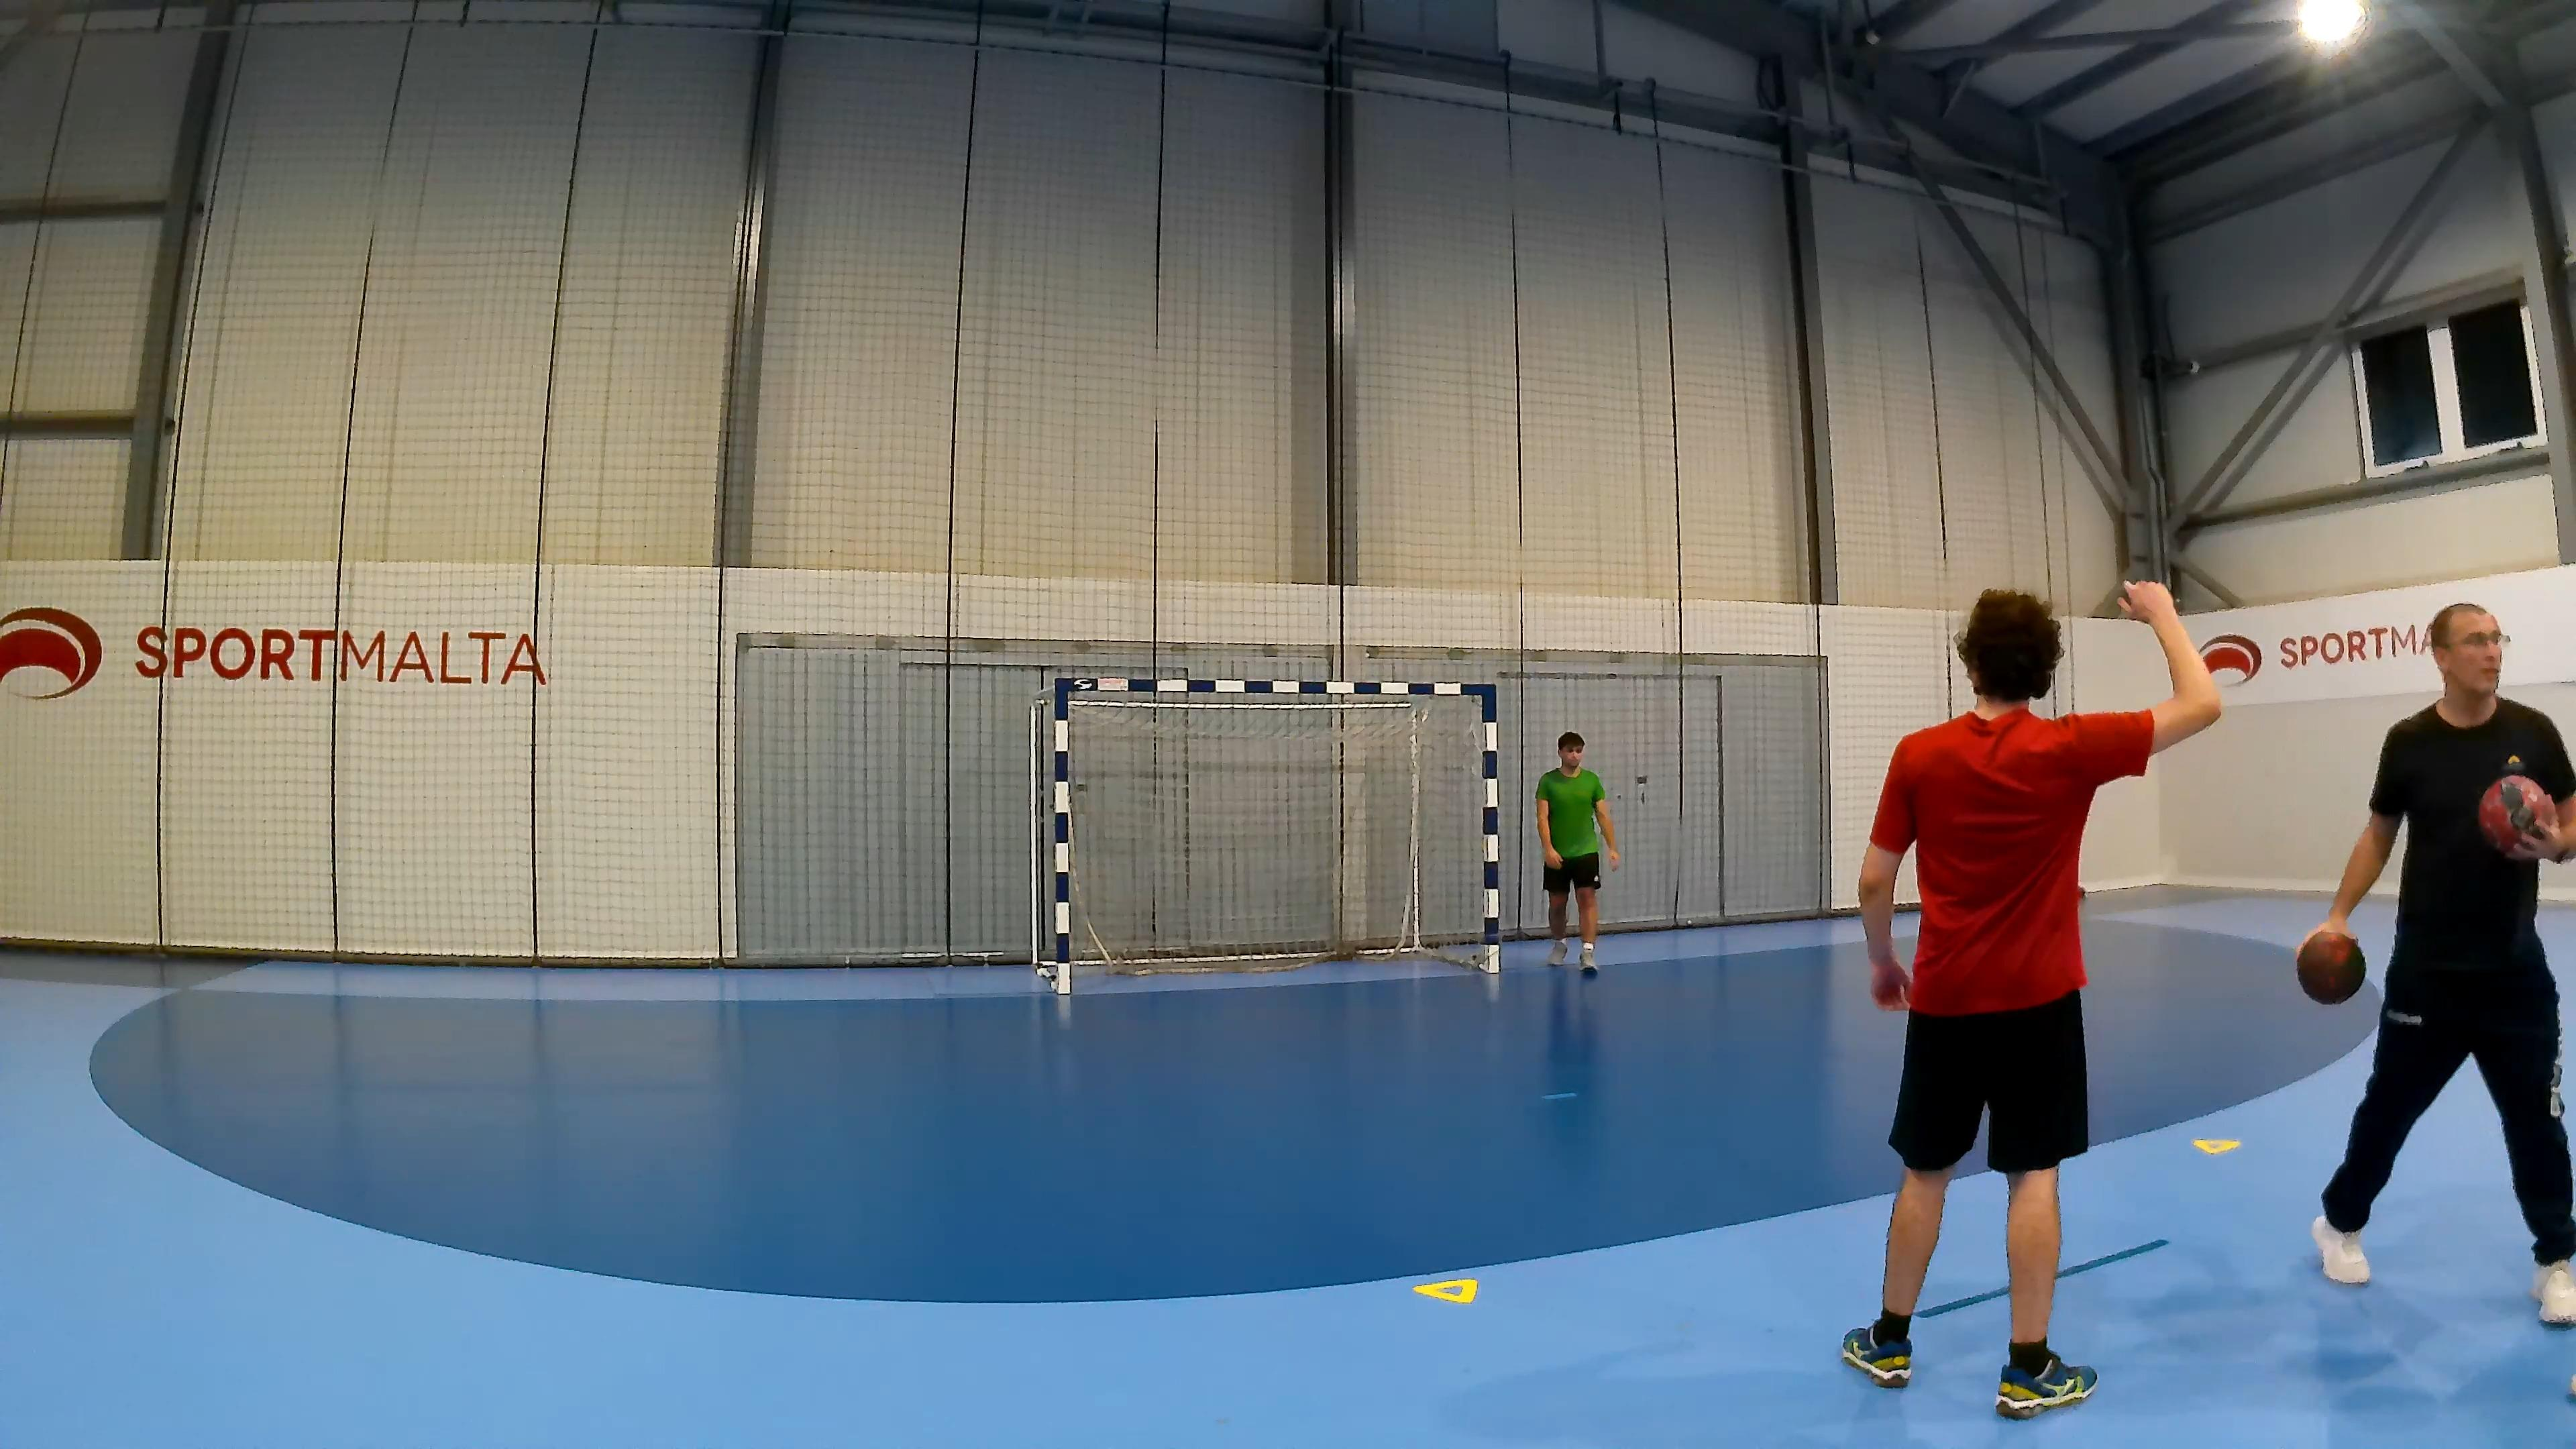handball: (2477, 773, 2546, 855), (2295, 927, 2365, 1005)
